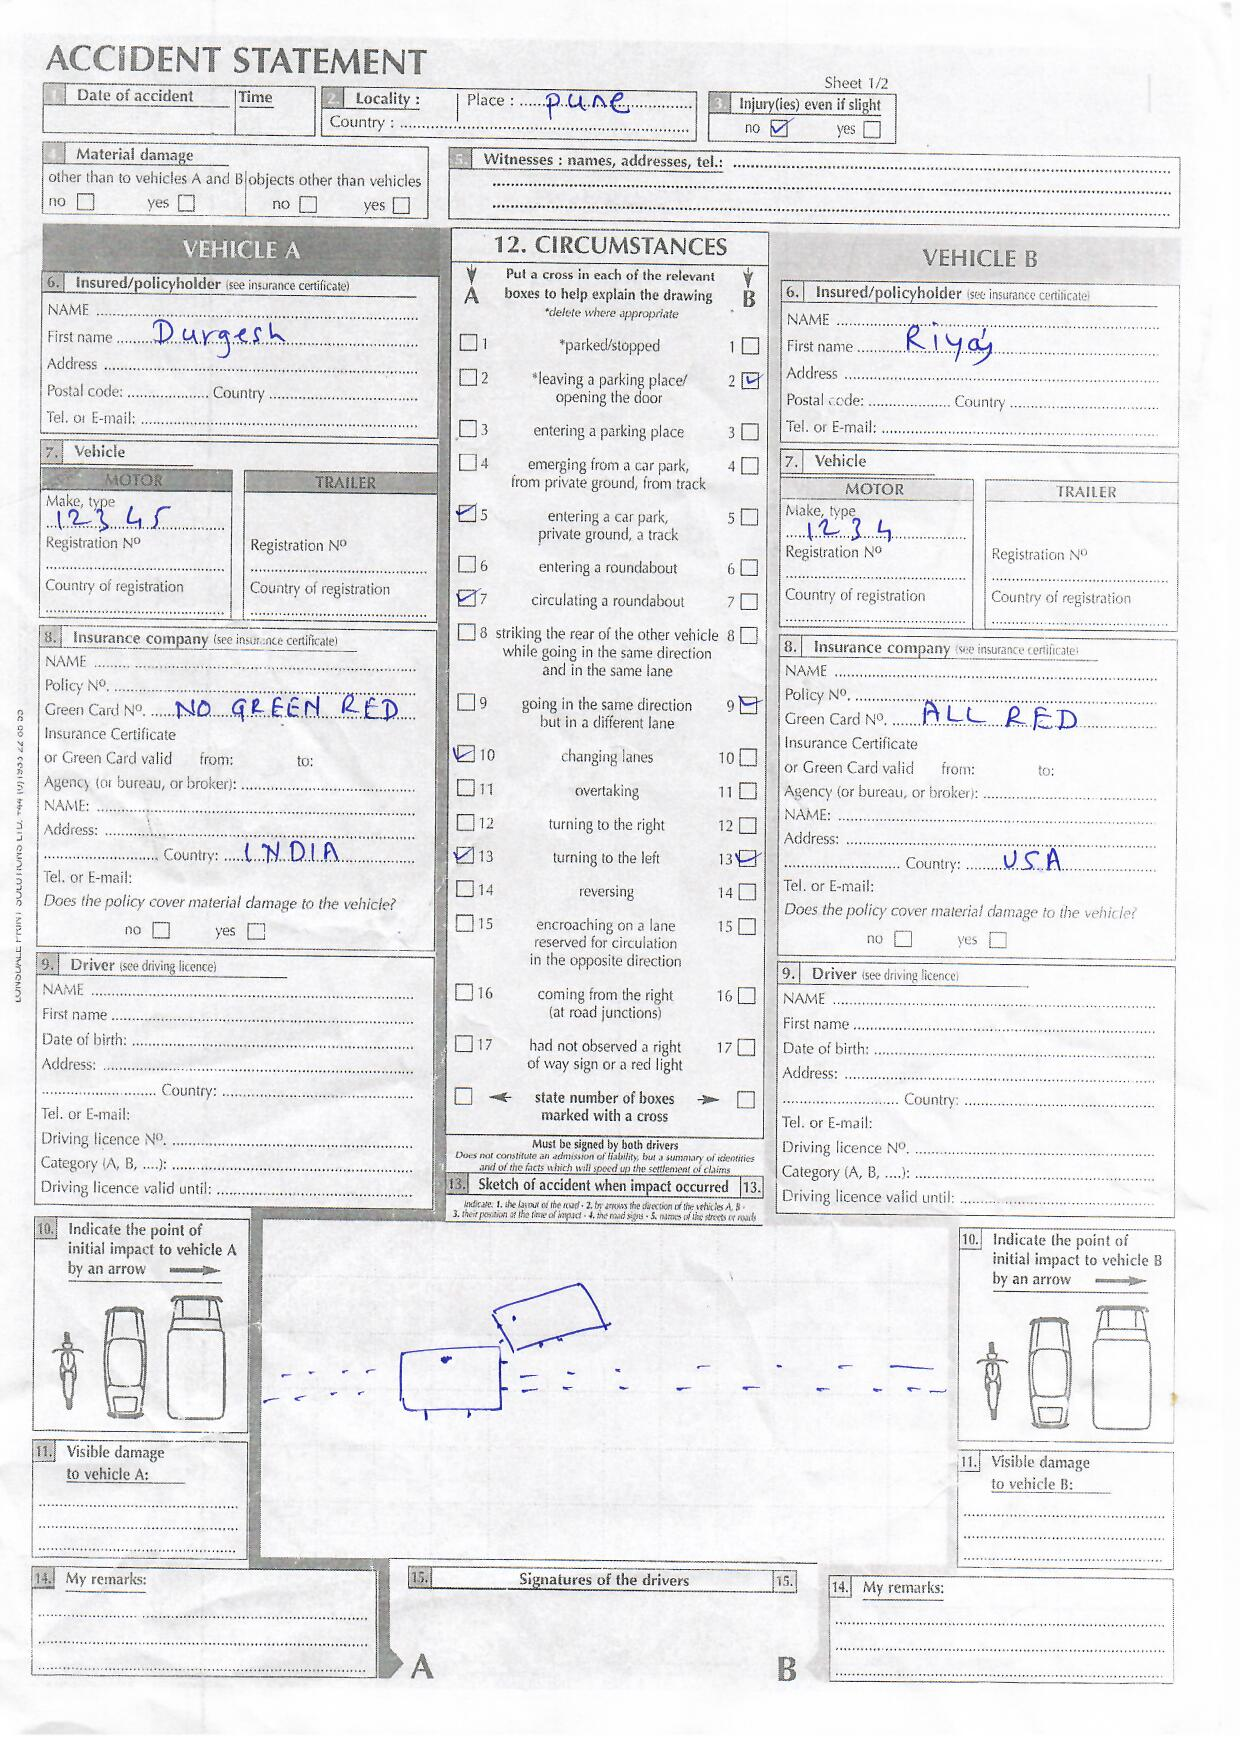a: (735, 846, 761, 872), (735, 369, 761, 393), (452, 843, 476, 868), (454, 587, 479, 611), (455, 502, 479, 528), (735, 693, 760, 717), (452, 740, 476, 764)
